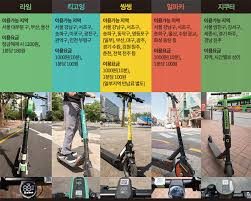kick_neck: (171, 103, 186, 157), (220, 100, 232, 155), (23, 98, 31, 162), (126, 102, 133, 151)
kick_wheel: (125, 160, 136, 175)
